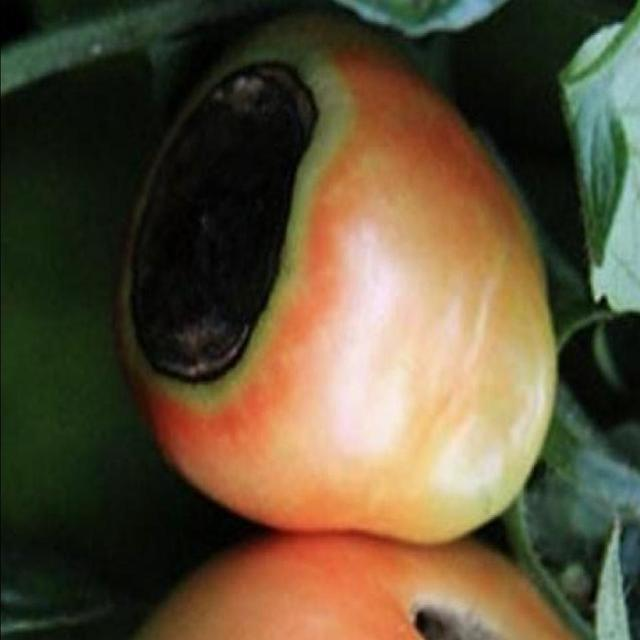Blossom End Rot Fruit: (68, 34, 308, 410)
